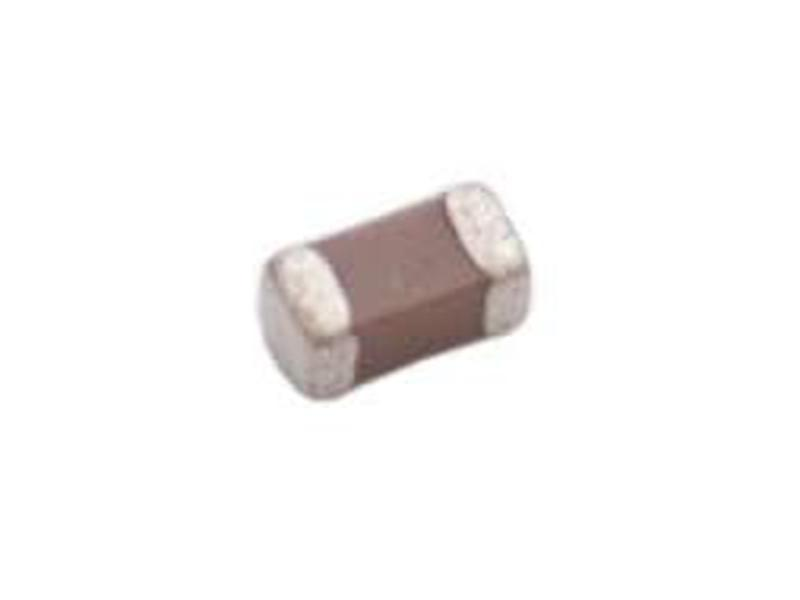SMD capacitor: (253, 176, 540, 414)
